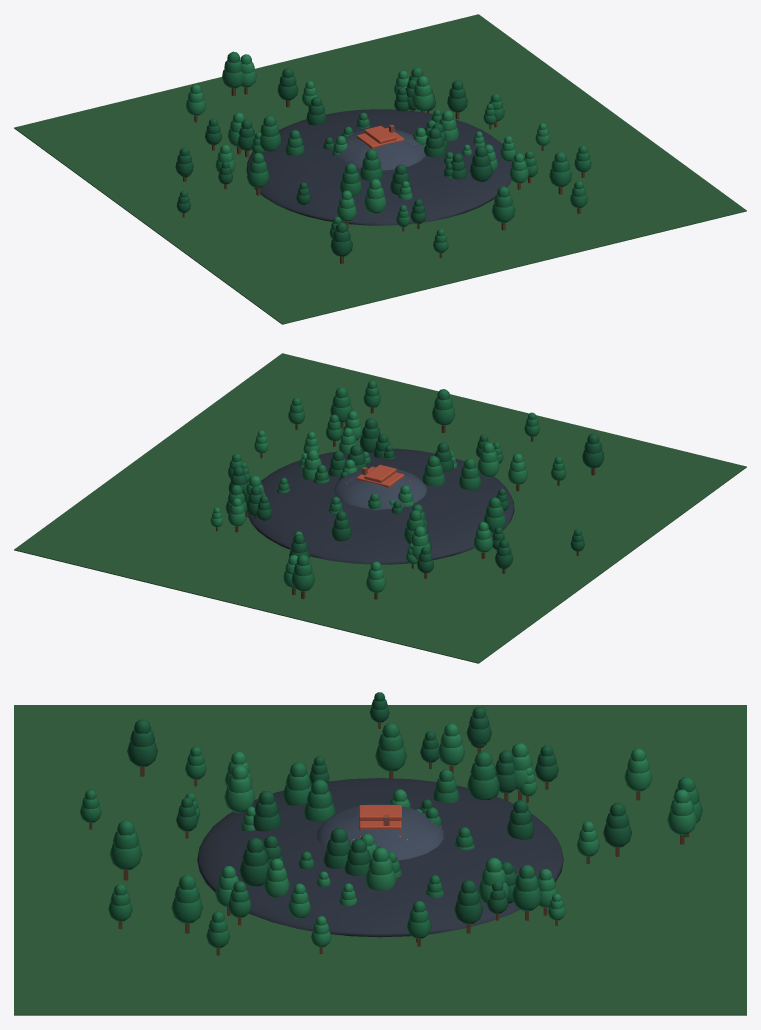
The model's file is sets.glb.
The picture shows the model from 3 angles, top to bottom: view 1: azimuth 30°, elevation 25°; view 2: azimuth 150°, elevation 25°; view 3: azimuth 270°, elevation 25°; orthographic projection. The views are drawn at different scales.
Visible parts, largest first — view 1: Forest, Mothership, House; view 2: Forest, Mothership, House; view 3: Forest, Mothership, House.
Part boxes in pixels (left/top/right/bottom): Forest: left=14, top=14, right=746, bottom=324; Mothership: left=246, top=109, right=512, bottom=225; House: left=350, top=124, right=410, bottom=152; Forest: left=14, top=353, right=746, bottom=663; Mothership: left=248, top=448, right=514, bottom=564; House: left=350, top=464, right=410, bottom=491; Forest: left=14, top=692, right=746, bottom=1015; Mothership: left=197, top=778, right=563, bottom=937; House: left=359, top=805, right=401, bottom=837.
Bounding box in the file's own units: 240 × 31.95 × 240.
